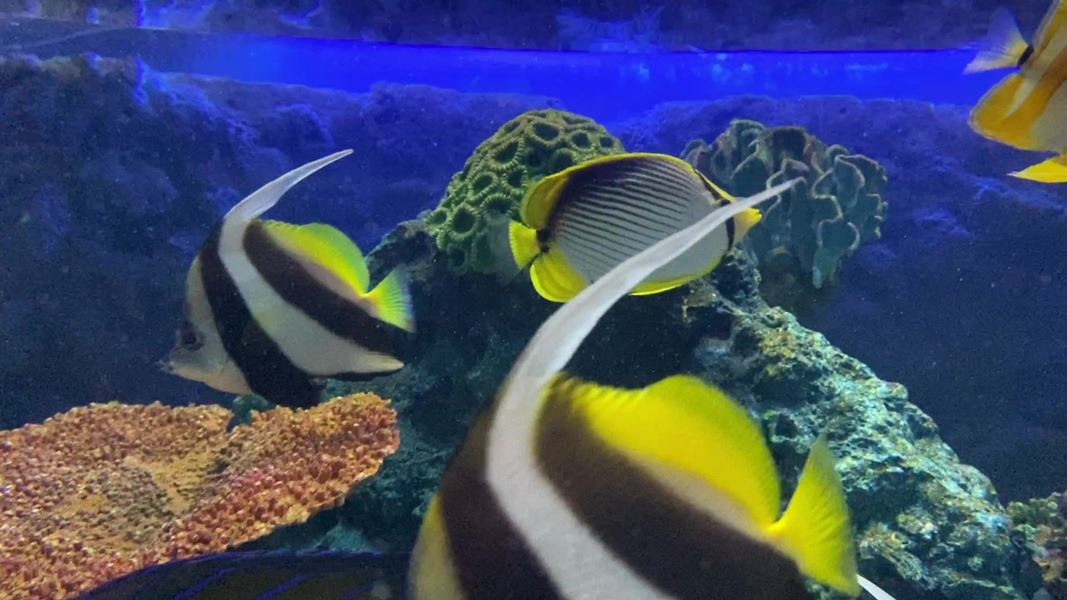Black-backed butterflyfish: (474, 138, 779, 312)
